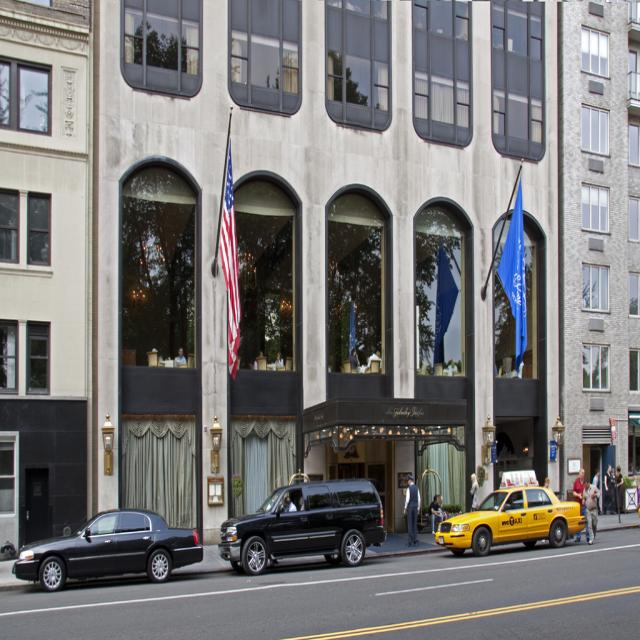car: (10, 503, 205, 595), (430, 479, 587, 556)
